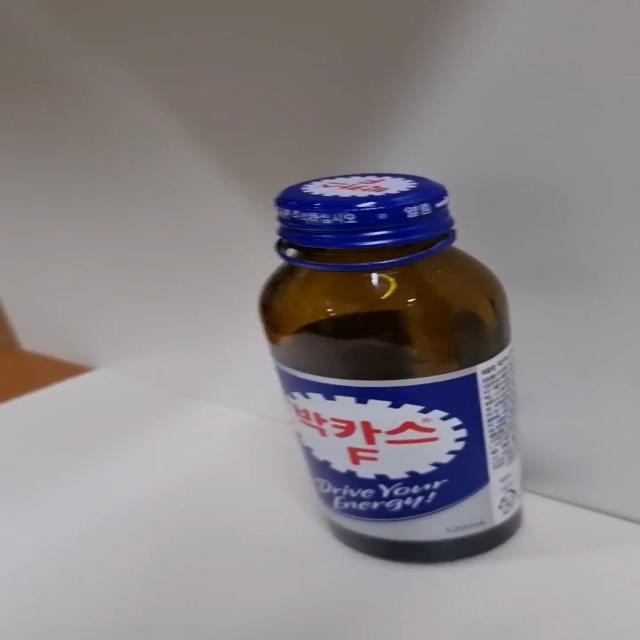Glass: (256, 172, 524, 566)
